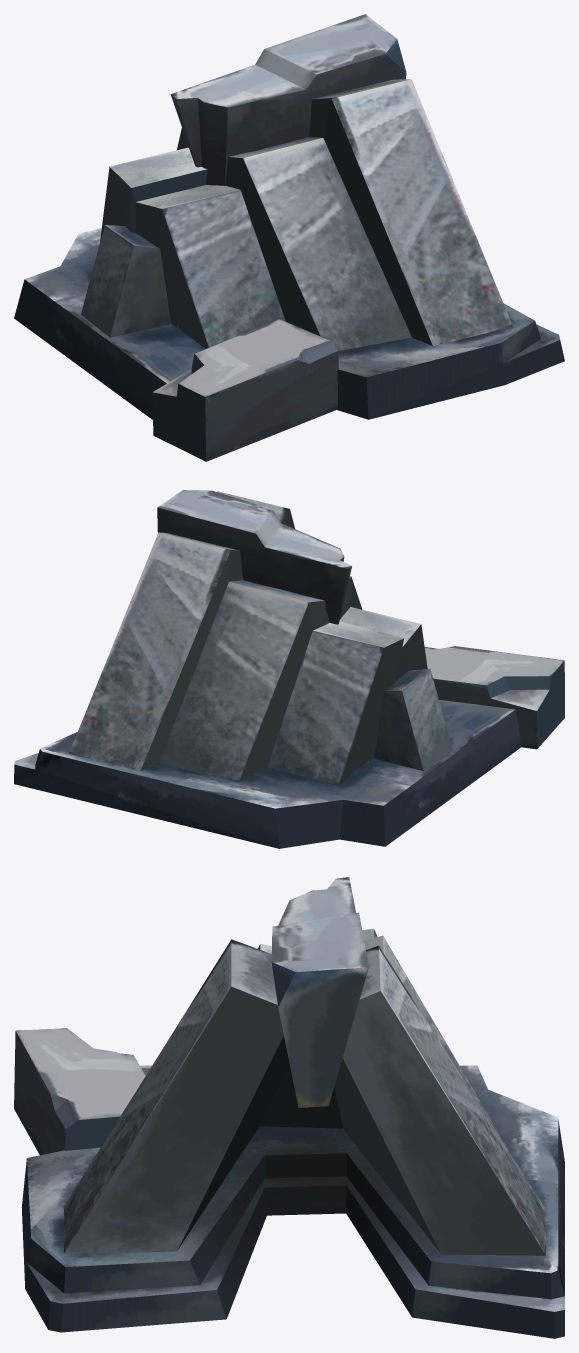
The model's file is Trap_SM_blower.fbx.
The picture shows the model from 3 angles, top to bottom: view 1: azimuth 30°, elevation 25°; view 2: azimuth 150°, elevation 25°; view 3: azimuth 270°, elevation 25°; orthographic projection. The views are drawn at different scales.
Parts seen in each view (by area): view 1: Trap_SM_blower; view 2: Trap_SM_blower; view 3: Trap_SM_blower.
Boxes of the visible parts, x1,y1,x2,y2 form: Trap_SM_blower: (14, 14, 564, 461); Trap_SM_blower: (14, 490, 564, 848); Trap_SM_blower: (14, 877, 564, 1338).
Size of the model in its own units: 1.03 by 0.6587 by 1.01.
Materials: 1 (1 with a texture image).
